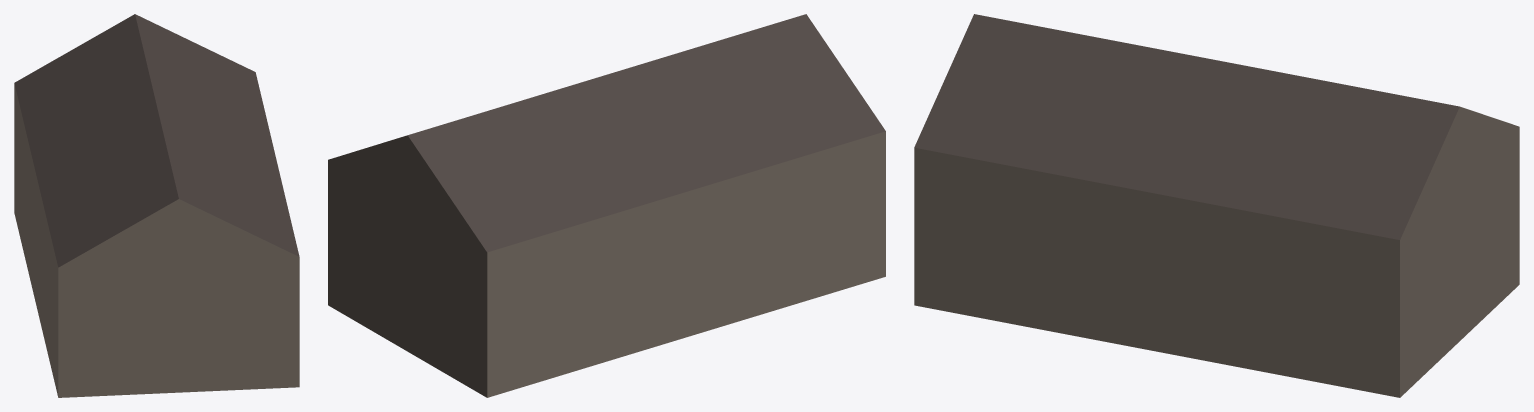
The picture shows the model from 3 angles, left to right: view 1: azimuth 30°, elevation 25°; view 2: azimuth 150°, elevation 25°; view 3: azimuth 270°, elevation 25°; orthographic projection. The views are drawn at different scales.
Visible parts, largest first — view 1: HP-w859082558; view 2: HP-w859082558; view 3: HP-w859082558.
Part boxes in pixels (x1,y1,x2,y2): HP-w859082558: (14, 14, 299, 397); HP-w859082558: (328, 14, 885, 397); HP-w859082558: (914, 14, 1519, 397).
Size of the model in its own units: 16.8 by 8.92 by 20.87.
